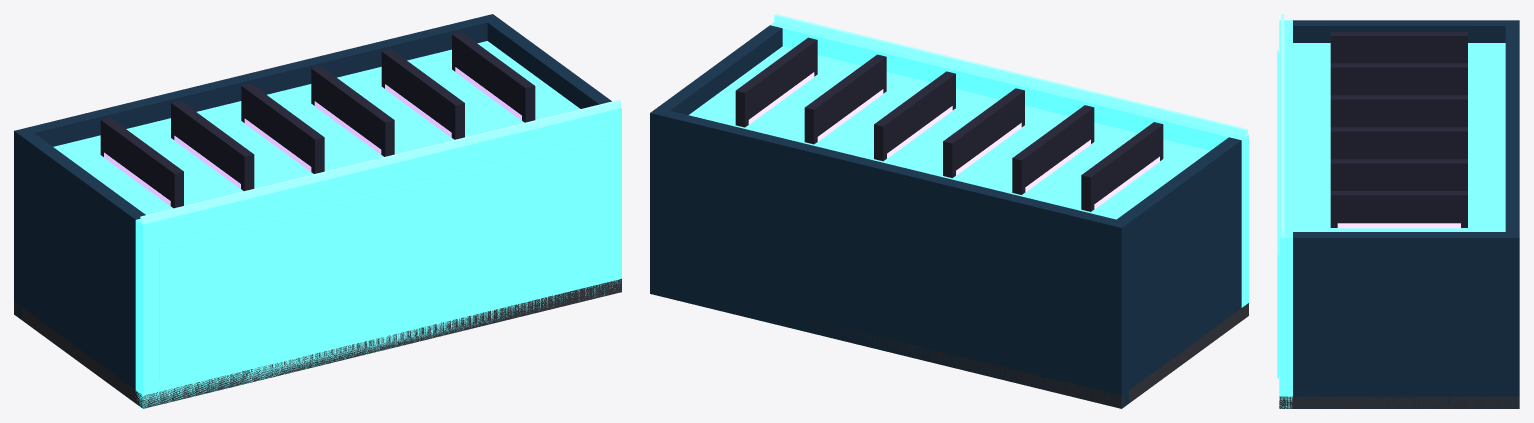
File: station_transport_ausstattung_3_3.glb
3 renders of one model, left to right at view 1: azimuth 30°, elevation 25°; view 2: azimuth 150°, elevation 25°; view 3: azimuth 270°, elevation 25°, orthographic. The views are drawn at different scales.
Visible parts, largest first — view 1: station_transport_ausstattung_3_3; view 2: station_transport_ausstattung_3_3; view 3: station_transport_ausstattung_3_3.
Part boxes in pixels (x1,y1,x2,y2): station_transport_ausstattung_3_3: (14,14,621,408); station_transport_ausstattung_3_3: (650,14,1248,408); station_transport_ausstattung_3_3: (1277,14,1519,408).
Size of the model in its own units: 1.5 by 0.6 by 0.705.
